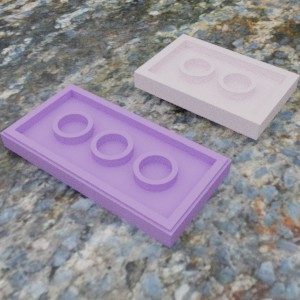lego: (0, 83, 231, 248), (134, 33, 299, 140)
